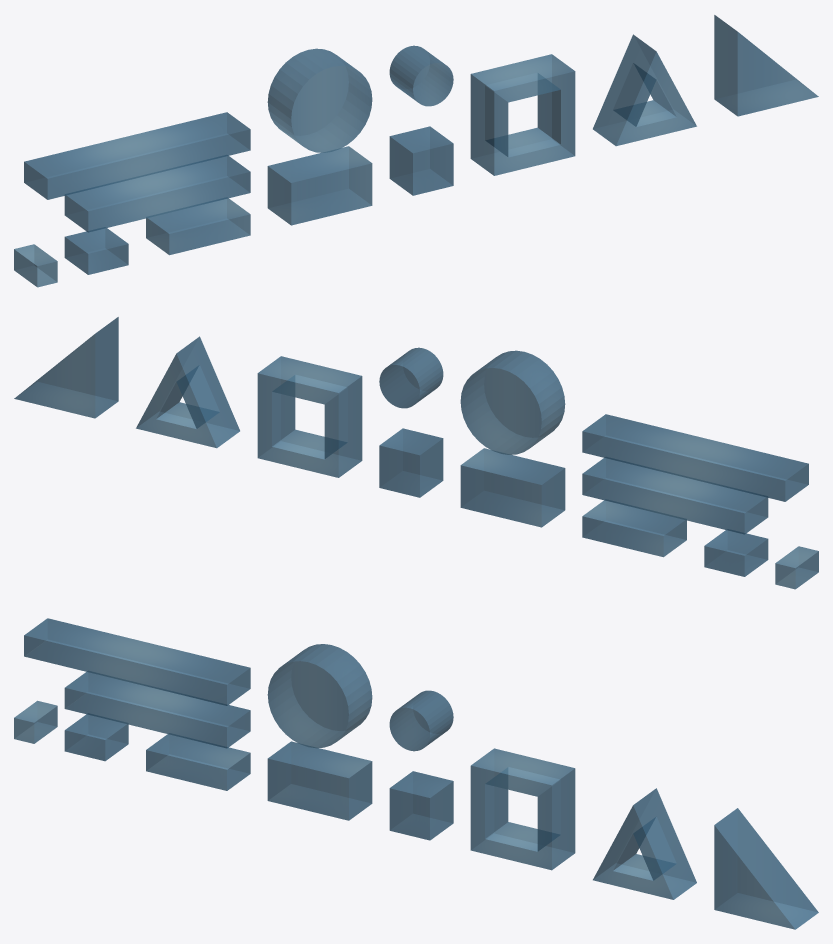
The model's file is GlassBlocks.fbx.
3 renders of one model, top to bottom at view 1: azimuth 30°, elevation 25°; view 2: azimuth 150°, elevation 25°; view 3: azimuth 330°, elevation 25°, orthographic.
Parts seen in each view (by area): view 1: GlassWindow2x2, GlassBlock5x05, GlassCylinder2x2, GlassBlock4x05, GlassTriangleWindow2x2, GlassBlock2x1.004, GlassTriangle2x2, GlassBlock2x05, GlassBlock1x1, GlassCylinder1x1, GlassBlock1x05, GlassBlock05x05; view 2: GlassWindow2x2, GlassBlock5x05, GlassCylinder2x2, GlassBlock4x05, GlassTriangleWindow2x2, GlassBlock2x1.004, GlassTriangle2x2, GlassBlock2x05, GlassBlock1x1, GlassCylinder1x1, GlassBlock1x05, GlassBlock05x05; view 3: GlassWindow2x2, GlassBlock5x05, GlassCylinder2x2, GlassBlock4x05, GlassTriangle2x2, GlassTriangleWindow2x2, GlassBlock2x1.004, GlassBlock2x05, GlassBlock1x1, GlassCylinder1x1, GlassBlock1x05, GlassBlock05x05.
Part boxes in pixels (x1=…): GlassWindow2x2: x1=470, y1=54, x2=575, y2=175; GlassBlock5x05: x1=24, y1=112, x2=250, y2=199; GlassCylinder2x2: x1=267, y1=48, x2=372, y2=152; GlassBlock4x05: x1=64, y1=156, x2=250, y2=232; GlassTriangleWindow2x2: x1=593, y1=34, x2=696, y2=146; GlassBlock2x1.004: x1=267, y1=146, x2=372, y2=225; GlassTriangle2x2: x1=714, y1=15, x2=818, y2=116; GlassBlock2x05: x1=146, y1=198, x2=250, y2=255; GlassBlock1x1: x1=389, y1=126, x2=453, y2=195; GlassCylinder1x1: x1=389, y1=45, x2=453, y2=106; GlassBlock1x05: x1=64, y1=228, x2=128, y2=274; GlassBlock05x05: x1=14, y1=244, x2=57, y2=287; GlassWindow2x2: x1=257, y1=356, x2=362, y2=477; GlassBlock5x05: x1=582, y1=414, x2=808, y2=501; GlassCylinder2x2: x1=460, y1=350, x2=565, y2=454; GlassBlock4x05: x1=582, y1=458, x2=768, y2=534; GlassTriangleWindow2x2: x1=136, y1=336, x2=239, y2=448; GlassBlock2x1.004: x1=460, y1=448, x2=565, y2=527; GlassTriangle2x2: x1=14, y1=317, x2=118, y2=418; GlassBlock2x05: x1=582, y1=500, x2=686, y2=557; GlassBlock1x1: x1=379, y1=428, x2=443, y2=497; GlassCylinder1x1: x1=379, y1=347, x2=443, y2=408; GlassBlock1x05: x1=704, y1=530, x2=768, y2=576; GlassBlock05x05: x1=775, y1=546, x2=818, y2=589; GlassWindow2x2: x1=470, y1=748, x2=575, y2=870; GlassBlock5x05: x1=24, y1=618, x2=250, y2=705; GlassCylinder2x2: x1=267, y1=644, x2=372, y2=748; GlassBlock4x05: x1=64, y1=672, x2=250, y2=748; GlassTriangle2x2: x1=714, y1=808, x2=818, y2=929; GlassTriangleWindow2x2: x1=593, y1=788, x2=696, y2=899; GlassBlock2x1.004: x1=267, y1=741, x2=372, y2=820; GlassBlock2x05: x1=146, y1=734, x2=250, y2=790; GlassBlock1x1: x1=389, y1=771, x2=453, y2=840; GlassCylinder1x1: x1=389, y1=690, x2=453, y2=751; GlassBlock1x05: x1=64, y1=714, x2=128, y2=761; GlassBlock05x05: x1=14, y1=700, x2=57, y2=743.
Bounding box in the file's own units: 1925 × 350 × 100.
